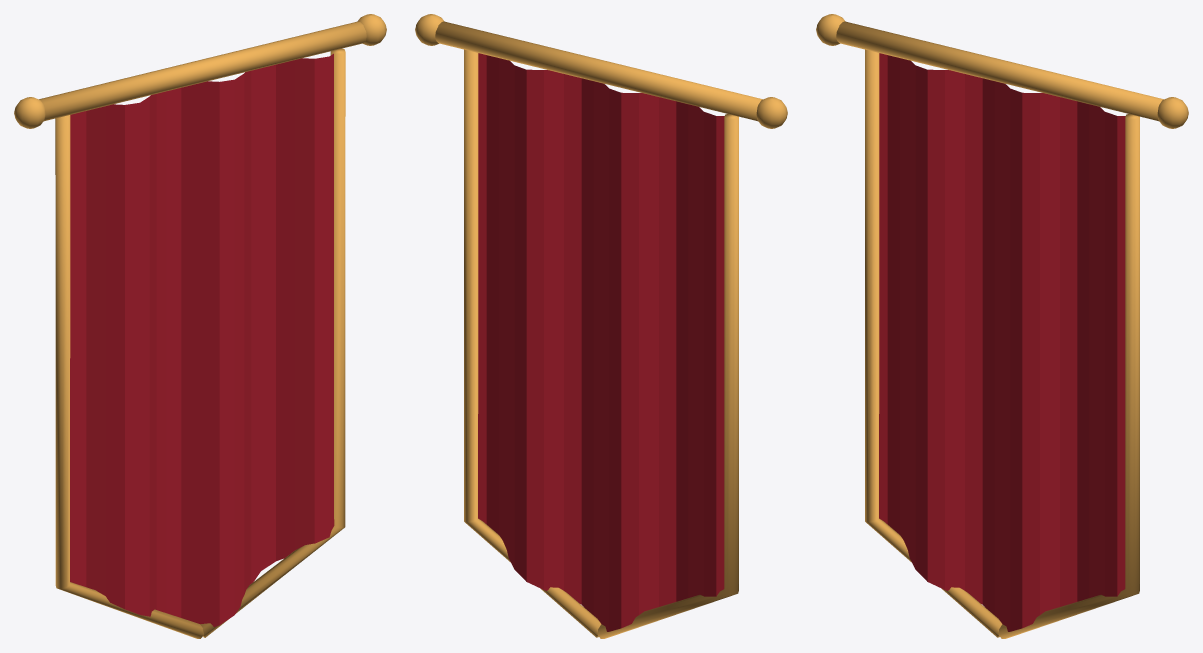
File: banner.glb
3 views of the same model, side by side, from view 1: azimuth 30°, elevation 25°; view 2: azimuth 150°, elevation 25°; view 3: azimuth 330°, elevation 25° (orthographic).
Parts seen in each view (by area): view 1: banner · Kop scarlet velvet, banner · Brushed brass; view 2: banner · Kop scarlet velvet, banner · Brushed brass; view 3: banner · Kop scarlet velvet, banner · Brushed brass.
Boxes of the visible parts, left/top/right/bottom form: banner · Kop scarlet velvet: left=70, top=53, right=334, bottom=627; banner · Brushed brass: left=14, top=14, right=386, bottom=638; banner · Kop scarlet velvet: left=478, top=53, right=724, bottom=631; banner · Brushed brass: left=415, top=14, right=787, bottom=638; banner · Kop scarlet velvet: left=879, top=53, right=1125, bottom=631; banner · Brushed brass: left=816, top=14, right=1188, bottom=638.
Size of the model in its own units: 2.45 by 3.69 by 0.184.
